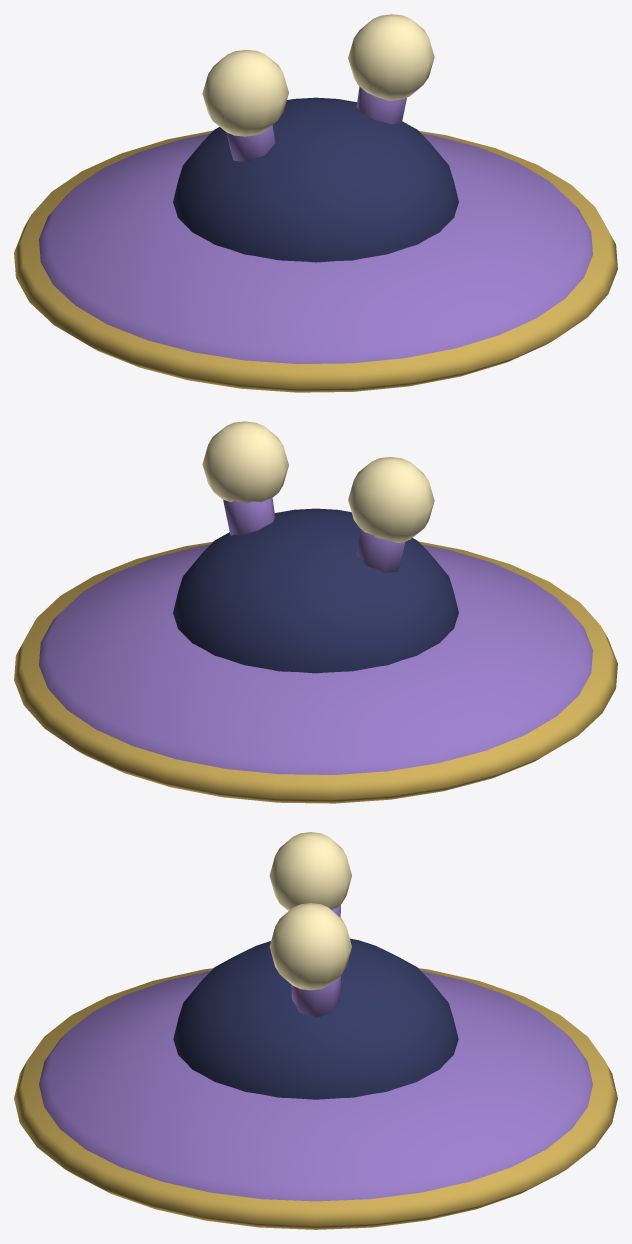
Rendered from ACC_TH_ALIEN_Primary.fbx.
3 renders of one model, top to bottom at view 1: azimuth 30°, elevation 25°; view 2: azimuth 150°, elevation 25°; view 3: azimuth 270°, elevation 25°, orthographic.
Visible parts, largest first — view 1: ACC_TH_ALIEN_Primary; view 2: ACC_TH_ALIEN_Primary; view 3: ACC_TH_ALIEN_Primary.
Boxes of the visible parts, left/top/right/bottom form: ACC_TH_ALIEN_Primary: left=14, top=14, right=617, bottom=392; ACC_TH_ALIEN_Primary: left=14, top=421, right=617, bottom=803; ACC_TH_ALIEN_Primary: left=14, top=832, right=617, bottom=1229.
Size of the model in its own units: 117 by 65.5 by 117.
